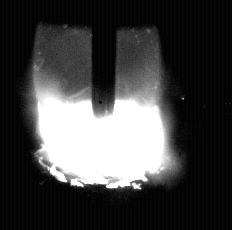arame: (93, 0, 116, 118)
poca: (39, 0, 166, 230)
